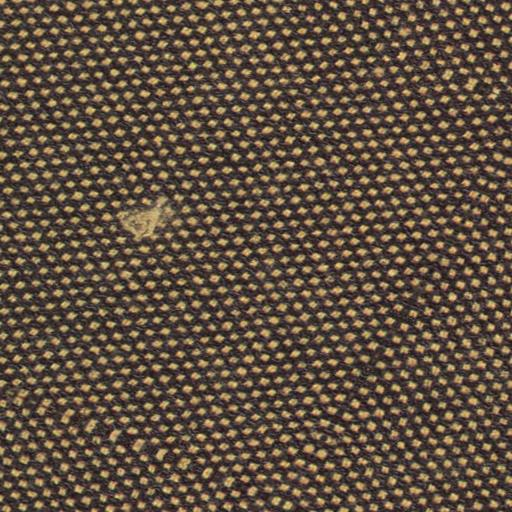knot: (111, 192, 181, 250)
